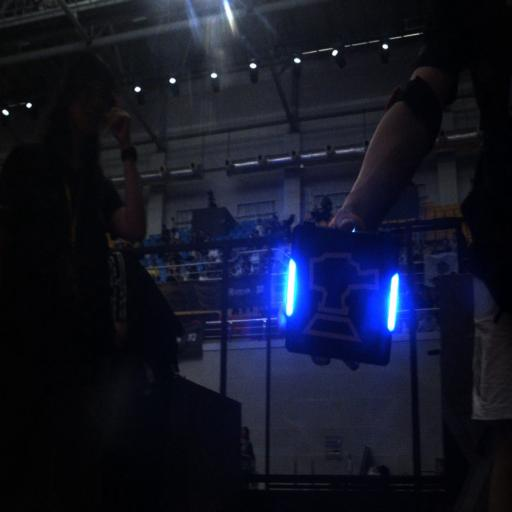target: (281, 220, 404, 365)
